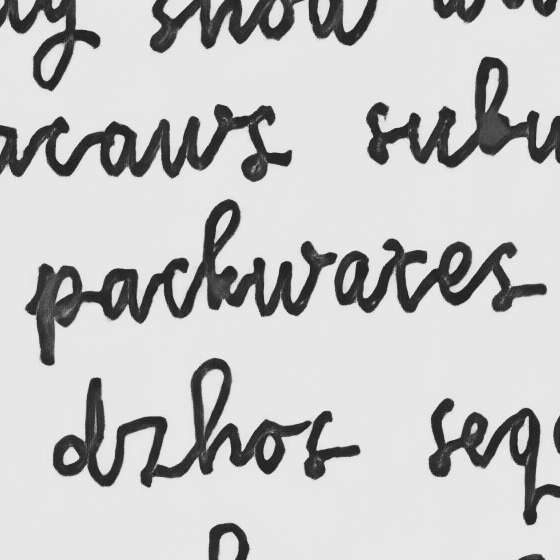a: (331, 248, 372, 313), (98, 265, 142, 325)
c: (160, 256, 194, 320)
e: (435, 238, 475, 309)
k: (201, 196, 243, 313)
p: (33, 261, 86, 367)
s: (487, 240, 522, 314)
w: (250, 239, 323, 320)
x: (376, 236, 429, 315)
